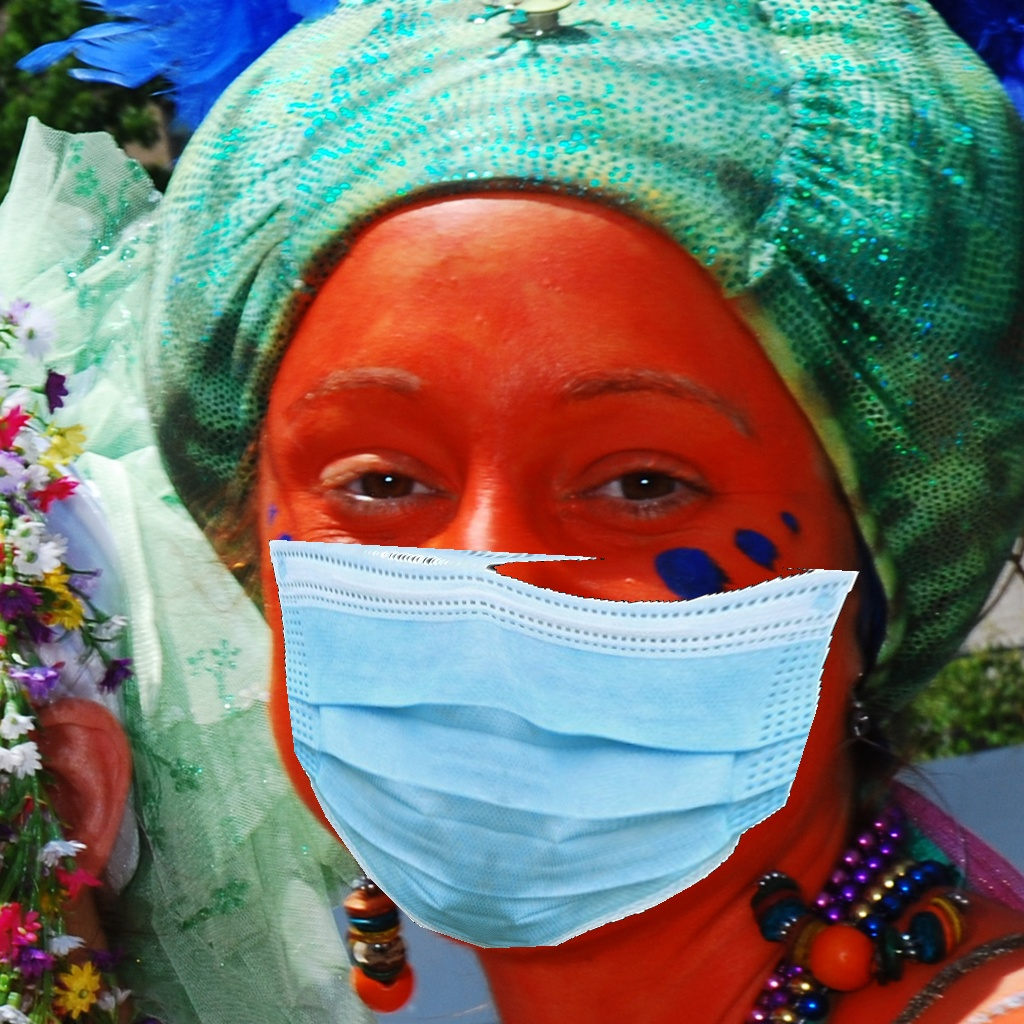Mask: (268, 327, 860, 959)
